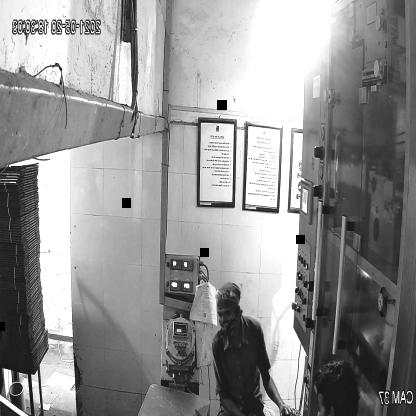no_goggles: (214, 304, 244, 326)
